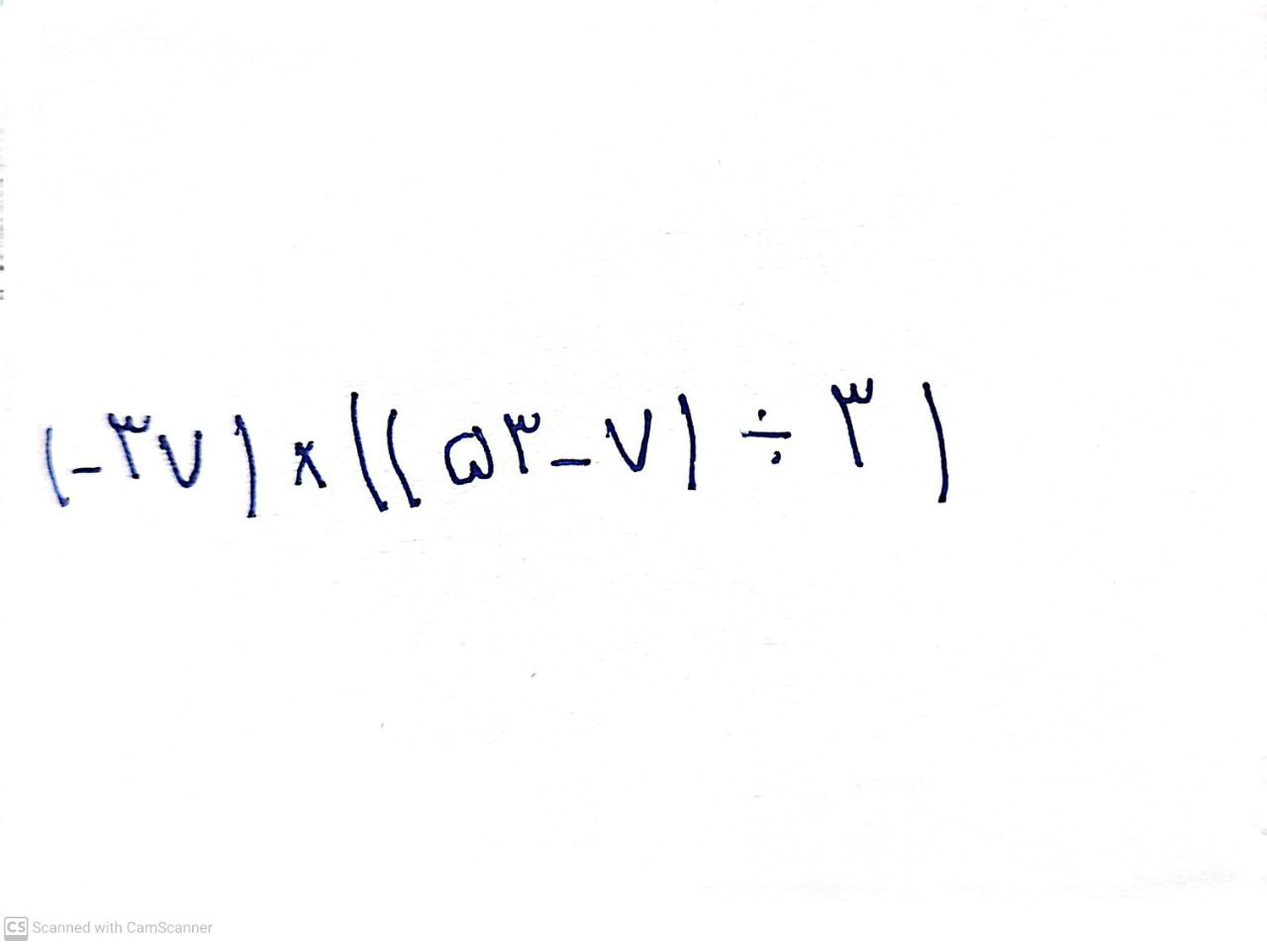character: (348, 392, 389, 511), (829, 379, 874, 468), (386, 409, 422, 508), (922, 382, 950, 503), (603, 410, 652, 472), (108, 409, 149, 480), (154, 432, 204, 488), (740, 409, 790, 465), (445, 429, 493, 482), (232, 415, 255, 520), (502, 412, 541, 473), (675, 396, 697, 488), (43, 427, 68, 506), (291, 442, 328, 488), (551, 455, 594, 467), (73, 465, 101, 475)
